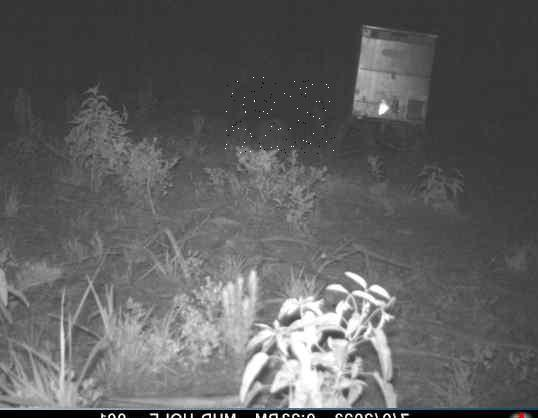Hog: (224, 77, 336, 154)
